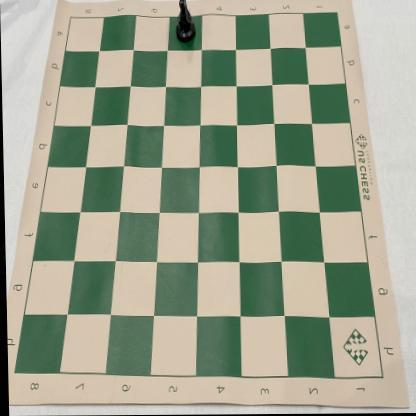black-knight: (175, 0, 196, 44)
